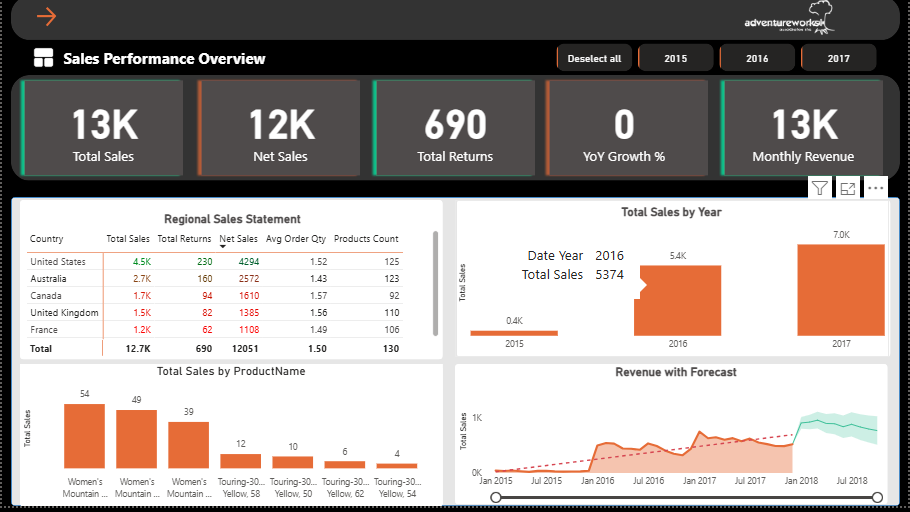

Layout of this report page (visuals, bound fields, positions):
{"tool":"powerbi","page":{"name":"Overview","canvas":[1280,720],"ordinal":0},"visuals":[{"type":"shape","box":[13,284.1,1255.1,436.2],"z":0},{"type":"shape","box":[640,520,610.7,198.1],"z":500,"group":"g5"},{"type":"shape","box":[13,111.6,1255.1,149.3],"z":1000},{"type":"shape","box":[24.6,111.6,239.1,149.3],"z":1000,"group":"g1"},{"type":"shape","box":[520.3,111.6,239.1,149.3],"z":1000,"group":"g2"},{"type":"shape","box":[765.2,111.6,239.1,149.3],"z":1000,"group":"g3"},{"type":"shape","box":[1012.6,111.6,239.1,149.3],"z":1000,"group":"g4"},{"type":"lineChart","title":"Revenue with Forecast","fields":{"Y":["_Measures.Total Sales"],"Category":["Date.Date.Variation.Date Hierarchy.Year","Date.Date.Variation.Date Hierarchy.Month"]},"box":[641.7,521.7,621.7,198.3],"z":1000,"group":"g5"},{"type":"shape","box":[273.9,111.6,239.1,149.3],"z":2000},{"type":"shape","box":[13,0,1255.1,62.3],"z":3000},{"type":"card","fields":{"Values":["_Measures.Net Sales"]},"box":[292.8,126.1,201.4,120.3],"z":4000},{"type":"group","id":"g1","title":"Group 1","box":[24.6,111.6,239.1,149.3],"z":5000},{"type":"card","fields":{"Values":["_Measures.Total Sales"]},"box":[43.4,126.1,201.4,120.3],"z":5000,"group":"g1"},{"type":"card","fields":{"Values":["_Measures.Total Returns"]},"box":[539.1,126.1,201.4,120.3],"z":5000,"group":"g2"},{"type":"card","fields":{"Values":["_Measures.YoY Growth %"]},"box":[778.2,126.1,201.4,120.3],"z":5000,"group":"g3"},{"type":"card","fields":{"Values":["_Measures.Monthly Revenue"]},"box":[1031.4,126.1,201.4,120.3],"z":5000,"group":"g4"},{"type":"group","id":"g2","title":"Group 1","box":[520.3,111.6,239.1,149.3],"z":6000},{"type":"group","id":"g3","title":"Group 1","box":[765.2,111.6,239.1,149.3],"z":7000},{"type":"group","id":"g4","title":"Group 1","box":[1012.6,111.6,239.1,149.3],"z":8000},{"type":"group","id":"g5","title":"Group 2","box":[640,520,623.3,200],"z":9000},{"type":"shape","box":[641.7,288.3,611.7,221.7],"z":10000},{"type":"columnChart","fields":{"Y":["_Measures.Total Sales"],"Category":["Date.Date.Variation.Date Hierarchy.Year"]},"box":[640,288.3,611.7,221.7],"z":11000},{"type":"shape","box":[25,288.3,596.7,225],"z":12000},{"type":"pivotTable","title":"Regional Sales Statement","fields":{"Values":["_Measures.Total Sales","_Measures.Total Returns","_Measures.Net Sales","_Measures.Avg Order Qty","_Measures.Products Count"],"Rows":["AdventureWorks_Territories.Continent","AdventureWorks_Territories.Country"]},"box":[30,305,591.7,208.3],"z":13000},{"type":"shape","box":[25,521.7,596.7,198.3],"z":14000},{"type":"columnChart","fields":{"Category":["Products1.ProductPrice","Products1.ProductName"],"Y":["_Measures.Total Sales"]},"box":[25,520,596.7,198.3],"z":15000},{"type":"advancedSlicerVisual","fields":{"Values":["Sales.Year"]},"box":[777.9,62.1,463.8,49.3],"z":16000},{"type":"image","box":[942.7,0,337.3,61.9],"z":17000},{"type":"textbox","box":[82.5,67.8,369.7,41.2],"z":18000},{"type":"image","box":[36.8,67.8,44.2,38.3],"z":19000},{"type":"actionButton","box":[44.2,10.3,36.8,39.8],"z":20000}]}

Visuals, with their boxes on the page's 1280x720 design canvas (x1, y1, x2, y2). These are canvas units, not pixel positions in the 910x512 screenshot, which may show the page scaled, cropped or inside an application window:
shape: 13,284,1268,720
shape: 640,520,1251,718
shape: 13,112,1268,261
shape: 25,112,264,261
shape: 520,112,759,261
shape: 765,112,1004,261
shape: 1013,112,1252,261
"Revenue with Forecast" lineChart: 642,522,1263,720
shape: 274,112,513,261
shape: 13,0,1268,62
card - _Measures.Net Sales: 293,126,494,246
"Group 1" group: 25,112,264,261
card - _Measures.Total Sales: 43,126,245,246
card - _Measures.Total Returns: 539,126,740,246
card - _Measures.YoY Growth %: 778,126,980,246
card - _Measures.Monthly Revenue: 1031,126,1233,246
"Group 1" group: 520,112,759,261
"Group 1" group: 765,112,1004,261
"Group 1" group: 1013,112,1252,261
"Group 2" group: 640,520,1263,720
shape: 642,288,1253,510
columnChart - _Measures.Total Sales x Date.Date.Variation.Date Hierarchy.Year: 640,288,1252,510
shape: 25,288,622,513
"Regional Sales Statement" pivotTable: 30,305,622,513
shape: 25,522,622,720
columnChart - Products1.ProductPrice x Products1.ProductName: 25,520,622,718
advancedSlicerVisual - Sales.Year: 778,62,1242,111
image: 943,0,1280,62
textbox: 82,68,452,109
image: 37,68,81,106
actionButton: 44,10,81,50
